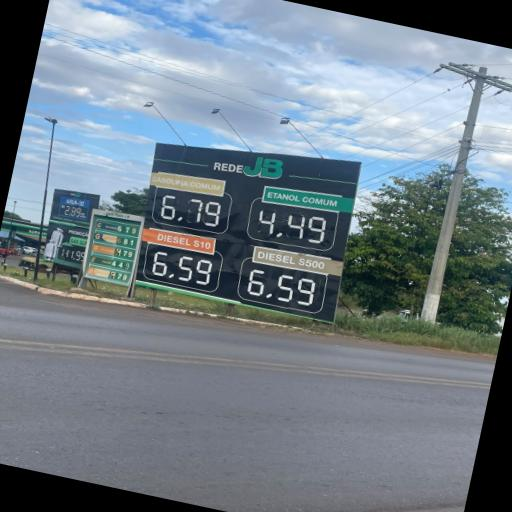ETANOL: (263, 188, 341, 210)
GASOLINA C: (150, 173, 223, 195)
S10: (144, 229, 213, 253)
S500: (255, 247, 331, 273)
placa: (134, 145, 359, 321)
preco: (244, 263, 324, 310), (255, 204, 333, 248), (147, 247, 216, 289), (156, 191, 226, 229)
